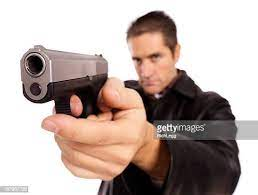gun: (19, 43, 131, 182)
